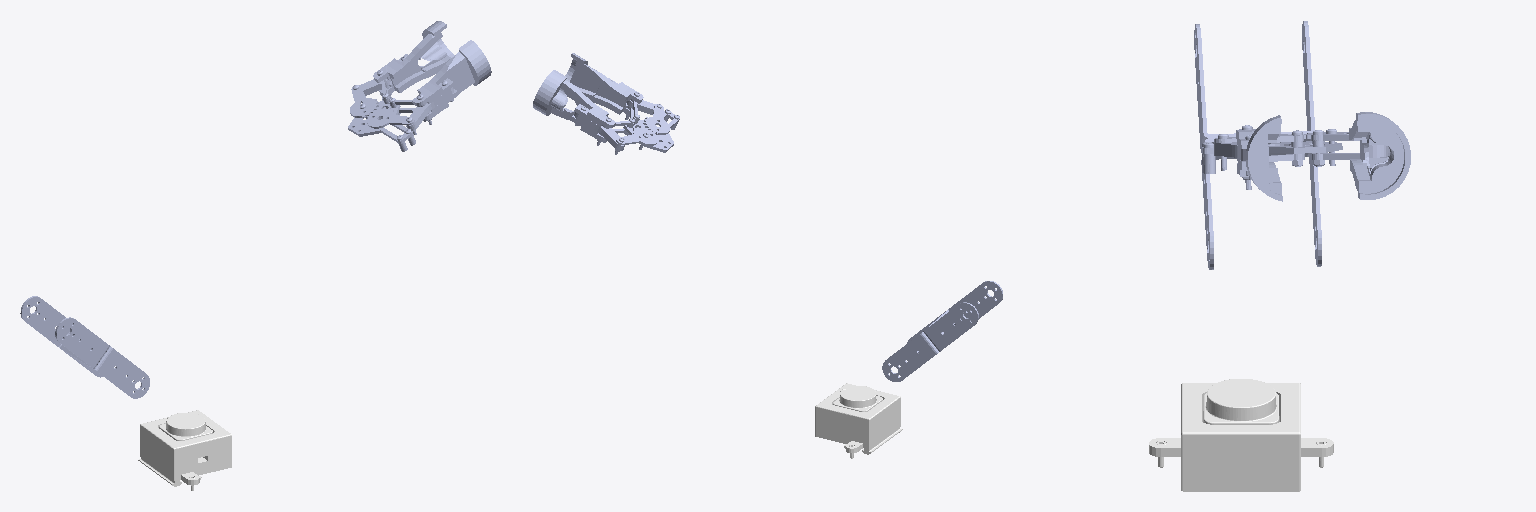
The robot description file, URDF, robot "urdf_robot_movil_10":
<?xml version="1.0" encoding="utf-8"?>
<!-- This URDF was automatically created by SolidWorks to URDF Exporter! Originally created by [author] ([email redacted]) 
     Commit Version: 1.6.0-4-g7f85cfe  Build Version: 1.6.7995.38578
     For more information, please see http://wiki.ros.org/sw_urdf_exporter -->
<robot
  name="urdf_robot_movil_10">
  <link
    name="base_link">
    <inertial>
      <origin
        xyz="0.00014391 0.054726 0.043385"
        rpy="0 0 0" />
      <mass
        value="2.9687" />
      <inertia
        ixx="0.0079632"
        ixy="-3.1553E-06"
        ixz="4.511E-06"
        iyy="0.0050895"
        iyz="-1.4643E-05"
        izz="0.0084171" />
    </inertial>
    <visual>
      <origin
        xyz="0 0 0"
        rpy="0 0 0" />
      <geometry>
        <mesh
          filename="package://urdf_robot_movil_10/meshes/base_link.STL" />
      </geometry>
      <material
        name="">
        <color
          rgba="0.79216 0.81961 0.93333 1" />
      </material>
    </visual>
    <collision>
      <origin
        xyz="0 0 0"
        rpy="0 0 0" />
      <geometry>
        <mesh
          filename="package://urdf_robot_movil_10/meshes/base_link.STL" />
      </geometry>
    </collision>
  </link>
  <link
    name="one_link">
    <inertial>
      <origin
        xyz="0.00066948929088248 0.00821276605908695 0.0120161160276199"
        rpy="0 0 0" />
      <mass
        value="0.0607701666921583" />
      <inertia
        ixx="1.80747452232379E-05"
        ixy="1.4900413398289E-11"
        ixz="-9.92757038774063E-08"
        iyy="3.25534257265712E-05"
        iyz="2.8495156934109E-08"
        izz="3.61045859726575E-05" />
    </inertial>
    <visual>
      <origin
        xyz="0 0 0"
        rpy="0 0 0" />
      <geometry>
        <mesh
          filename="package://urdf_robot_movil_10/meshes/one_link.STL" />
      </geometry>
      <material
        name="">
        <color
          rgba="0.792156862745098 0.819607843137255 0.933333333333333 1" />
      </material>
    </visual>
    <collision>
      <origin
        xyz="0 0 0"
        rpy="0 0 0" />
      <geometry>
        <mesh
          filename="package://urdf_robot_movil_10/meshes/one_link.STL" />
      </geometry>
    </collision>
  </link>
  <joint
    name="one_joint"
    type="fixed">
    <origin
      xyz="0.12502 0.052825 0.018761"
      rpy="0 0 0" />
    <parent
      link="base_link" />
    <child
      link="one_link" />
    <axis
      xyz="0 0 0" />
  </joint>
  <link
    name="b_one_link">
    <inertial>
      <origin
        xyz="0.000427157186813076 0.0102946201025425 -0.0156980085673386"
        rpy="0 0 0" />
      <mass
        value="0.0209525194546198" />
      <inertia
        ixx="2.22127748737101E-06"
        ixy="1.13508505114525E-10"
        ixz="6.97303470093855E-09"
        iyy="5.17524356842545E-06"
        iyz="-9.92812884721813E-08"
        izz="4.94132024651789E-06" />
    </inertial>
    <visual>
      <origin
        xyz="0 0 0"
        rpy="0 0 0" />
      <geometry>
        <mesh
          filename="package://urdf_robot_movil_10/meshes/b_one_link.STL" />
      </geometry>
      <material
        name="">
        <color
          rgba="0.792156862745098 0.819607843137255 0.933333333333333 1" />
      </material>
    </visual>
    <collision>
      <origin
        xyz="0 0 0"
        rpy="0 0 0" />
      <geometry>
        <mesh
          filename="package://urdf_robot_movil_10/meshes/b_one_link.STL" />
      </geometry>
    </collision>
  </link>
  <joint
    name="b_one_joint"
    type="revolute">
    <origin
      xyz="0.012365 -0.0057185 0.0674"
      rpy="1.5708 0 0.080094" />
    <parent
      link="one_link" />
    <child
      link="b_one_link" />
    <axis
      xyz="0 1 0" />
    <limit
      lower="-0.5"
      upper="0.5"
      effort="100"
      velocity="100" />
    <dynamics
      damping="0.1"
      friction="0.1" />
  </joint>
  <link
    name="b_two_link">
    <inertial>
      <origin
        xyz="0.00113326121436003 -3.38495936688665E-05 0.0124999896962761"
        rpy="0 0 0" />
      <mass
        value="0.0169691284855117" />
      <inertia
        ixx="7.46965749396863E-06"
        ixy="-1.21736450257067E-12"
        ixz="-3.70236708405052E-13"
        iyy="1.04484894618462E-05"
        iyz="-8.05106902607362E-13"
        izz="1.61687939127493E-05" />
    </inertial>
    <visual>
      <origin
        xyz="0 0 0"
        rpy="0 0 0" />
      <geometry>
        <mesh
          filename="package://urdf_robot_movil_10/meshes/b_two_link.STL" />
      </geometry>
      <material
        name="">
        <color
          rgba="0.792156862745098 0.819607843137255 0.933333333333333 1" />
      </material>
    </visual>
    <collision>
      <origin
        xyz="0 0 0"
        rpy="0 0 0" />
      <geometry>
        <mesh
          filename="package://urdf_robot_movil_10/meshes/b_two_link.STL" />
      </geometry>
    </collision>
  </link>
  <joint
    name="b_two_joint"
    type="revolute">
    <origin
      xyz="-0.036061 0.03961 -0.0184"
      rpy="-2.2954 -1.5708 -0.041055" />
    <parent
      link="b_one_link" />
    <child
      link="b_two_link" />
    <axis
      xyz="1 0 0" />
    <limit
      lower="-0.5"
      upper="0.5"
      effort="100"
      velocity="100" />
    <dynamics
      damping="0.1"
      friction="0.1" />
  </joint>
  <link
    name="b_three_link">
    <inertial>
      <origin
        xyz="-0.0173601091089053 -0.000801310857206819 0.00231549818770302"
        rpy="0 0 0" />
      <mass
        value="0.0284438950302985" />
      <inertia
        ixx="2.60306040342647E-06"
        ixy="6.96241814185666E-09"
        ixz="-1.39235981674611E-07"
        iyy="6.39287069367858E-06"
        iyz="-9.92432796499202E-08"
        izz="6.53940770466795E-06" />
    </inertial>
    <visual>
      <origin
        xyz="0 0 0"
        rpy="0 0 0" />
      <geometry>
        <mesh
          filename="package://urdf_robot_movil_10/meshes/b_three_link.STL" />
      </geometry>
      <material
        name="">
        <color
          rgba="0.101960784313725 0.101960784313725 0.101960784313725 1" />
      </material>
    </visual>
    <collision>
      <origin
        xyz="0 0 0"
        rpy="0 0 0" />
      <geometry>
        <mesh
          filename="package://urdf_robot_movil_10/meshes/b_three_link.STL" />
      </geometry>
    </collision>
  </link>
  <joint
    name="b_three_joint"
    type="fixed">
    <origin
      xyz="0.00205000693027733 -0.0579882130317623 0.00360707353846704"
      rpy="3.14159265358912 1.01797350055361 -1.57079632679588" />
    <parent
      link="b_two_link" />
    <child
      link="b_three_link" />
    <axis
      xyz="0 0 0" />
  </joint>
  <link
    name="b_four_link">
    <inertial>
      <origin
        xyz="0.0159186058212266 0.033060340366707 0.0149713005243685"
        rpy="0 0 0" />
      <mass
        value="0.0224599824822333" />
      <inertia
        ixx="5.58061559700804E-06"
        ixy="-1.39236302931293E-07"
        ixz="9.92903849160482E-08"
        iyy="2.43763229094207E-06"
        iyz="6.96620613521444E-09"
        izz="5.43237044447467E-06" />
    </inertial>
    <visual>
      <origin
        xyz="0 0 0"
        rpy="0 0 0" />
      <geometry>
        <mesh
          filename="package://urdf_robot_movil_10/meshes/b_four_link.STL" />
      </geometry>
      <material
        name="">
        <color
          rgba="0.792156862745098 0.819607843137255 0.933333333333333 1" />
      </material>
    </visual>
    <collision>
      <origin
        xyz="0 0 0"
        rpy="0 0 0" />
      <geometry>
        <mesh
          filename="package://urdf_robot_movil_10/meshes/b_four_link.STL" />
      </geometry>
    </collision>
  </link>
  <joint
    name="b_four_joint"
    type="fixed">
    <origin
      xyz="-0.0922456071103317 0.0136505069453065 -0.0127633956847114"
      rpy="1.57079632679489 -1.5707963267949 0" />
    <parent
      link="b_three_link" />
    <child
      link="b_four_link" />
    <axis
      xyz="0 0 0" />
  </joint>
  <link
    name="b_five_link">
    <inertial>
      <origin
        xyz="4.70532097715526E-07 -0.0334015671811442 0.0124964553324057"
        rpy="0 0 0" />
      <mass
        value="0.0580807820375032" />
      <inertia
        ixx="7.01411723935162E-05"
        ixy="3.67922170129137E-08"
        ixz="9.97209722302908E-11"
        iyy="1.0539716055971E-05"
        iyz="3.17900796623314E-10"
        izz="7.64638890810985E-05" />
    </inertial>
    <visual>
      <origin
        xyz="0 0 0"
        rpy="0 0 0" />
      <geometry>
        <mesh
          filename="package://urdf_robot_movil_10/meshes/b_five_link.STL" />
      </geometry>
      <material
        name="">
        <color
          rgba="0.792156862745098 0.819607843137255 0.933333333333333 1" />
      </material>
    </visual>
    <collision>
      <origin
        xyz="0 0 0"
        rpy="0 0 0" />
      <geometry>
        <mesh
          filename="package://urdf_robot_movil_10/meshes/b_five_link.STL" />
      </geometry>
    </collision>
  </link>
  <joint
    name="b_five_joint"
    type="fixed">
    <origin
      xyz="0.0315836805679495 0.0982760043019228 0.0136000000037605"
      rpy="3.01911928583116 1.5707963267949 0" />
    <parent
      link="b_four_link" />
    <child
      link="b_five_link" />
    <axis
      xyz="0 0 0" />
  </joint>
  <link
    name="b_six_link">
    <inertial>
      <origin
        xyz="-0.00748774144066361 0.0280118717946398 0.0146747392237583"
        rpy="0 0 0" />
      <mass
        value="0.043944370633138" />
      <inertia
        ixx="1.19877751359348E-05"
        ixy="-9.64845232286231E-09"
        ixz="-2.00308185732624E-08"
        iyy="6.12499627624963E-06"
        iyz="1.23533220054689E-08"
        izz="9.08234072264866E-06" />
    </inertial>
    <visual>
      <origin
        xyz="0 0 0"
        rpy="0 0 0" />
      <geometry>
        <mesh
          filename="package://urdf_robot_movil_10/meshes/b_six_link.STL" />
      </geometry>
      <material
        name="">
        <color
          rgba="0.792156862745098 0.819607843137255 0.933333333333333 1" />
      </material>
    </visual>
    <collision>
      <origin
        xyz="0 0 0"
        rpy="0 0 0" />
      <geometry>
        <mesh
          filename="package://urdf_robot_movil_10/meshes/b_six_link.STL" />
      </geometry>
    </collision>
  </link>
  <joint
    name="b_six_joint"
    type="fixed">
    <origin
      xyz="0.018128975677366 -0.18464348106895 0.0109027253025801"
      rpy="0.00520868894473001 0 1.57079632679489" />
    <parent
      link="b_five_link" />
    <child
      link="b_six_link" />
    <axis
      xyz="0 0 0" />
  </joint>
  <link
    name="b_seven_link">
    <inertial>
      <origin
        xyz="0.0102676090701397 -0.00442212334114798 -0.00504936365663197"
        rpy="0 0 0" />
      <mass
        value="0.0489708276210365" />
      <inertia
        ixx="6.5250889218822E-06"
        ixy="-7.50617194908632E-07"
        ixz="1.04669126650087E-07"
        iyy="2.19579328206096E-05"
        iyz="5.46084101566021E-09"
        izz="2.14204950262832E-05" />
    </inertial>
    <visual>
      <origin
        xyz="0 0 0"
        rpy="0 0 0" />
      <geometry>
        <mesh
          filename="package://urdf_robot_movil_10/meshes/b_seven_link.STL" />
      </geometry>
      <material
        name="">
        <color
          rgba="0.792156862745098 0.819607843137255 0.933333333333333 1" />
      </material>
    </visual>
    <collision>
      <origin
        xyz="0 0 0"
        rpy="0 0 0" />
      <geometry>
        <mesh
          filename="package://urdf_robot_movil_10/meshes/b_seven_link.STL" />
      </geometry>
    </collision>
  </link>
  <joint
    name="b_seven_joint"
    type="fixed">
    <origin
      xyz="-0.0632987567964975 0.0220984231148093 0.00751693630570466"
      rpy="0 0 0" />
    <parent
      link="b_six_link" />
    <child
      link="b_seven_link" />
    <axis
      xyz="0 0 0" />
  </joint>
  <link
    name="two_link">
    <inertial>
      <origin
        xyz="-8.8942E-06 -6.1305E-06 -0.00069968"
        rpy="0 0 0" />
      <mass
        value="0.28318" />
      <inertia
        ixx="0.00014716"
        ixy="1.267E-10"
        ixz="1.403E-10"
        iyy="0.00014716"
        iyz="-6.1449E-11"
        izz="0.0002249" />
    </inertial>
    <visual>
      <origin
        xyz="0 0 0"
        rpy="0 0 0" />
      <geometry>
        <mesh
          filename="package://urdf_robot_movil_10/meshes/two_link.STL" />
      </geometry>
      <material
        name="">
        <color
          rgba="0.6 0.6 0.6 1" />
      </material>
    </visual>
    <collision>
      <origin
        xyz="0 0 0"
        rpy="0 0 0" />
      <geometry>
        <mesh
          filename="package://urdf_robot_movil_10/meshes/two_link.STL" />
      </geometry>
    </collision>
  </link>
  <joint
    name="two_joint"
    type="continuous">
    <origin
      xyz="0.19002 0.16823 -0.04974"
      rpy="1.5708 -1.4664 3.1416" />
    <parent
      link="base_link" />
    <child
      link="two_link" />
    <axis
      xyz="0 0 1" />
    <limit
      effort="100"
      velocity="100" />
    <dynamics
      damping="0.1"
      friction="0.1" />
  </joint>
  <link
    name="three_link">
    <inertial>
      <origin
        xyz="-3.30041752816257E-08 1.20894291445739E-07 0.0155001495903717"
        rpy="0 0 0" />
      <mass
        value="0.287669768623928" />
      <inertia
        ixx="0.000147993721412052"
        ixy="-1.63576845143665E-10"
        ixz="4.16285952235616E-11"
        iyy="0.00014799404224062"
        iyz="-1.22159402765009E-12"
        izz="0.000226573008593854" />
    </inertial>
    <visual>
      <origin
        xyz="0 0 0"
        rpy="0 0 0" />
      <geometry>
        <mesh
          filename="package://urdf_robot_movil_10/meshes/three_link.STL" />
      </geometry>
      <material
        name="">
        <color
          rgba="0.83921568627451 0.83921568627451 0.92156862745098 1" />
      </material>
    </visual>
    <collision>
      <origin
        xyz="0 0 0"
        rpy="0 0 0" />
      <geometry>
        <mesh
          filename="package://urdf_robot_movil_10/meshes/three_link.STL" />
      </geometry>
    </collision>
  </link>
  <joint
    name="three_joint"
    type="continuous">
    <origin
      xyz="0.19002 -0.073575 -0.04974"
      rpy="1.5708 -0.27845 -3.1416" />
    <parent
      link="base_link" />
    <child
      link="three_link" />
    <axis
      xyz="0 0 1" />
    <limit
      effort="100"
      velocity="100" />
    <dynamics
      damping="0.1"
      friction="0.1" />
  </joint>
  <link
    name="four_link">
    <inertial>
      <origin
        xyz="2.39264338897094E-09 1.25295573721873E-07 -0.000500149590371035"
        rpy="0 0 0" />
      <mass
        value="0.287669768623943" />
      <inertia
        ixx="0.000147993662974436"
        ixy="6.77789663180691E-11"
        ixz="4.00618171702866E-11"
        iyy="0.000147994100678197"
        iyz="1.1379071966722E-11"
        izz="0.00022657300859382" />
    </inertial>
    <visual>
      <origin
        xyz="0 0 0"
        rpy="0 0 0" />
      <geometry>
        <mesh
          filename="package://urdf_robot_movil_10/meshes/four_link.STL" />
      </geometry>
      <material
        name="">
        <color
          rgba="0.6 0.6 0.6 1" />
      </material>
    </visual>
    <collision>
      <origin
        xyz="0 0 0"
        rpy="0 0 0" />
      <geometry>
        <mesh
          filename="package://urdf_robot_movil_10/meshes/four_link.STL" />
      </geometry>
    </collision>
  </link>
  <joint
    name="four_joint"
    type="continuous">
    <origin
      xyz="-0.10023 0.16823 -0.04974"
      rpy="-1.5708 -1.0129 0" />
    <parent
      link="base_link" />
    <child
      link="four_link" />
    <axis
      xyz="0 0 1" />
    <limit
      effort="100"
      velocity="100" />
    <dynamics
      damping="0.1"
      friction="0.1" />
  </joint>
  <link
    name="five_link">
    <inertial>
      <origin
        xyz="-3.300417512897E-08 1.20894295796425E-07 0.0155001495903718"
        rpy="0 0 0" />
      <mass
        value="0.287669768623891" />
      <inertia
        ixx="0.000147993721412096"
        ixy="-1.63576849737971E-10"
        ixz="4.16286014333606E-11"
        iyy="0.000147994042240621"
        iyz="-1.2215928666412E-12"
        izz="0.000226573008593904" />
    </inertial>
    <visual>
      <origin
        xyz="0 0 0"
        rpy="0 0 0" />
      <geometry>
        <mesh
          filename="package://urdf_robot_movil_10/meshes/five_link.STL" />
      </geometry>
      <material
        name="">
        <color
          rgba="0.83921568627451 0.83921568627451 0.92156862745098 1" />
      </material>
    </visual>
    <collision>
      <origin
        xyz="0 0 0"
        rpy="0 0 0" />
      <geometry>
        <mesh
          filename="package://urdf_robot_movil_10/meshes/five_link.STL" />
      </geometry>
    </collision>
  </link>
  <joint
    name="five_joint"
    type="continuous">
    <origin
      xyz="-0.10023 -0.073575 -0.04974"
      rpy="1.5708 0.67734 -3.1416" />
    <parent
      link="base_link" />
    <child
      link="five_link" />
    <axis
      xyz="0 0 1" />
    <limit
      effort="100"
      velocity="100" />
    <dynamics
      damping="0.1"
      friction="0.1" />
  </joint>
  <link
    name="lidar_link">
    <inertial>
      <origin
        xyz="0 0 0"
        rpy="0 0 0" />
      <mass
        value="0" />
      <inertia
        ixx="0"
        ixy="0"
        ixz="0"
        iyy="0"
        iyz="0"
        izz="0" />
    </inertial>
    <visual>
      <origin
        xyz="0 0 0"
        rpy="0 0 0" />
      <geometry>
        <mesh
          filename="package://urdf_robot_movil_10/meshes/lidar_link.STL" />
      </geometry>
      <material
        name="">
        <color
          rgba="1 1 1 1" />
      </material>
    </visual>
    <collision>
      <origin
        xyz="0 0 0"
        rpy="0 0 0" />
      <geometry>
        <mesh
          filename="package://urdf_robot_movil_10/meshes/lidar_link.STL" />
      </geometry>
    </collision>
  </link>
  <joint
    name="lidar_joint"
    type="fixed">
    <origin
      xyz="0.206451895621682 0.0539543497503061 0.0127613880656721"
      rpy="0 0 0" />
    <parent
      link="base_link" />
    <child
      link="lidar_link" />
    <axis
      xyz="0 0 0" />
  </joint>
</robot>

--- Facts derived from the render (not from the file) ---
3 views of the same robot in one strip: view 1: azimuth 30°, elevation 25°; view 2: azimuth 150°, elevation 25°; view 3: azimuth 270°, elevation 25° (orthographic).
Model urdf_robot_movil_10 with 14 links and 13 joints (2 revolute, 4 continuous, 7 fixed), rooted at base_link, posed all joints at 0.
Links seen in each view (by area): view 1: b_seven_link, lidar_link, b_two_link; view 2: b_seven_link, lidar_link, b_two_link; view 3: lidar_link, b_seven_link, b_two_link.
Link boxes in pixels (x1,y1,x2,y2): b_seven_link: [348, 21, 491, 151]; lidar_link: [138, 410, 231, 490]; b_two_link: [20, 296, 149, 398]; b_seven_link: [533, 53, 679, 154]; lidar_link: [815, 383, 902, 458]; b_two_link: [882, 281, 1002, 381]; lidar_link: [1149, 379, 1333, 491]; b_seven_link: [1201, 112, 1410, 201]; b_two_link: [1194, 21, 1321, 269].
Bounding box of the posed robot: 0.4678 × 0.131 × 0.3413 m (x, y, z).
Meshes: 14 distinct files referenced, 3 mesh visuals loaded (3 binary STL); not drawn: 11 (reference not matched to a file when rendering).